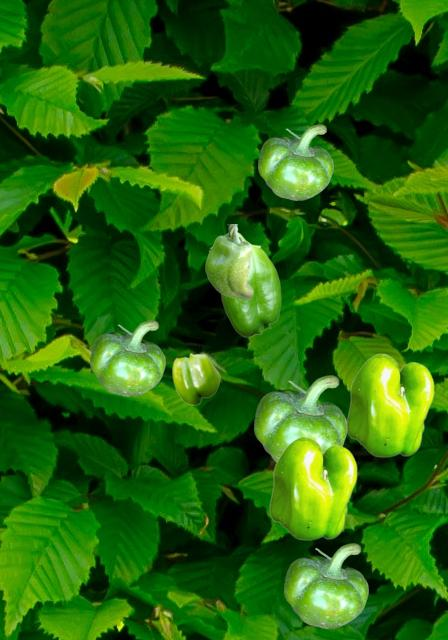bell_pepper: (346, 353, 433, 456), (269, 436, 356, 539), (254, 375, 346, 462), (284, 543, 367, 627), (220, 232, 280, 336), (258, 124, 332, 199), (90, 320, 164, 395), (205, 224, 252, 298), (172, 353, 219, 404)
